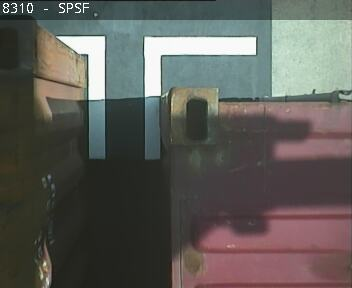groundmarker_1: (53, 35, 256, 158)
